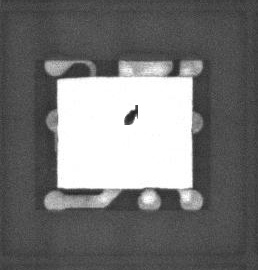DIE_INK: (124, 105, 139, 124)
